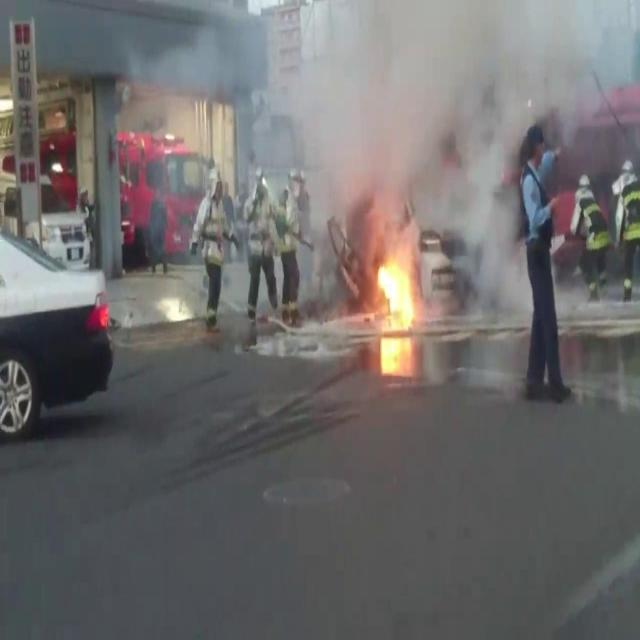Fire: (372, 255, 414, 317)
